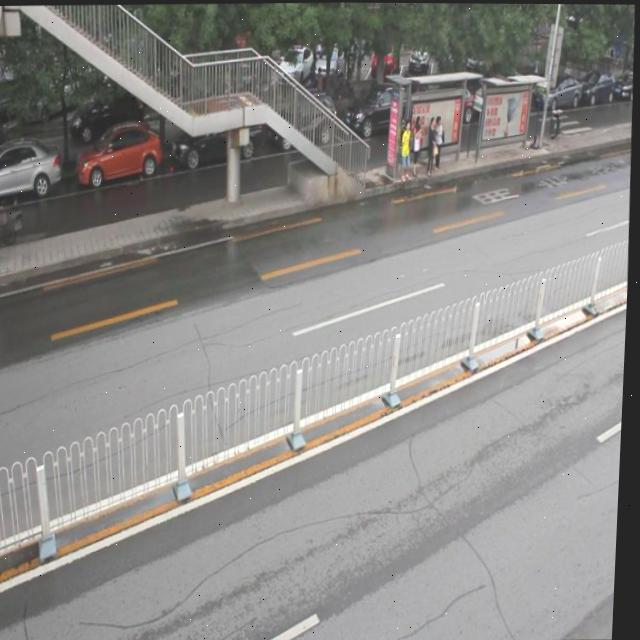car: (171, 97, 263, 164), (75, 120, 164, 187), (344, 78, 413, 137), (270, 90, 338, 148), (0, 136, 62, 196)
